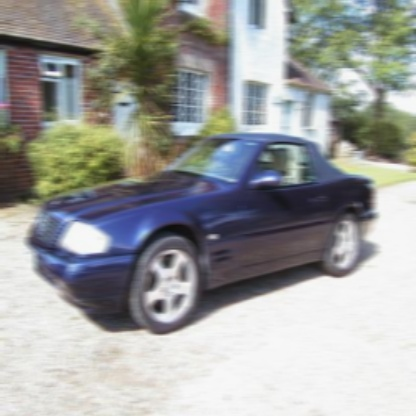Vehicle: (25, 130, 378, 338)
